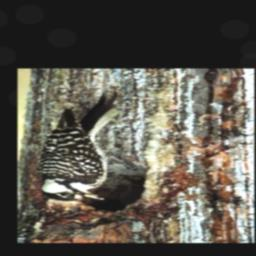Woodpecker: (39, 92, 123, 203)
